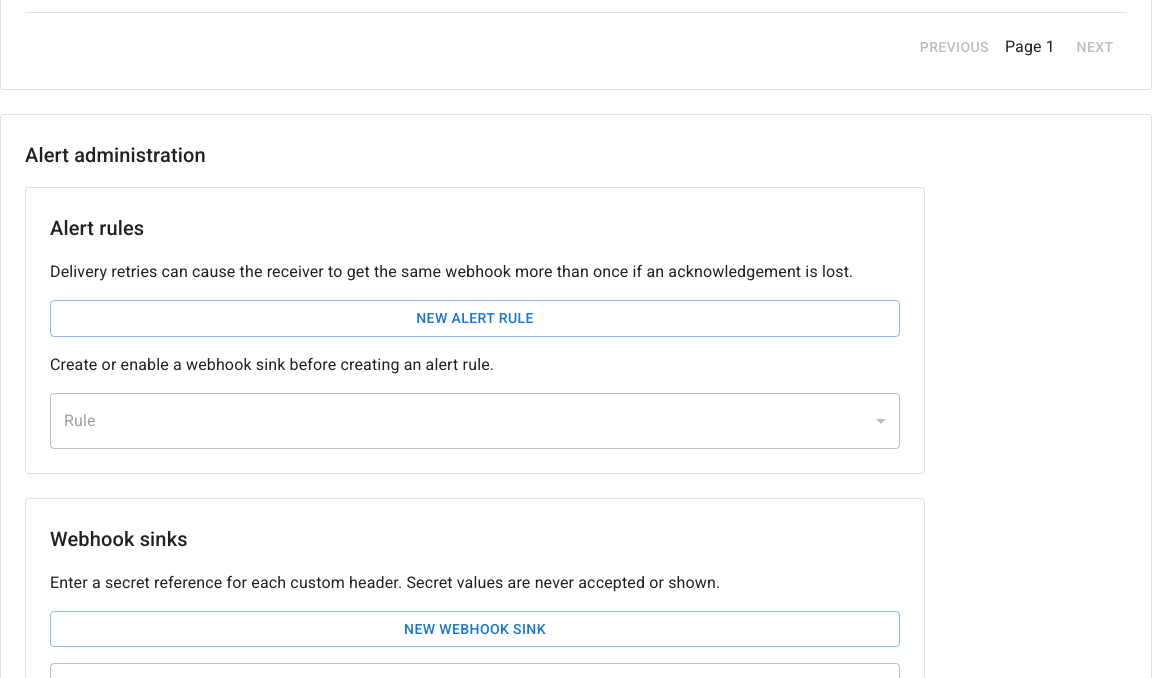
Test: rule creation without an enabled sink gives guidance and keeps the draft
(page scrolled)
Click the button "New alert rule": (475, 318) [50, 300, 900, 336]
(page scrolled)
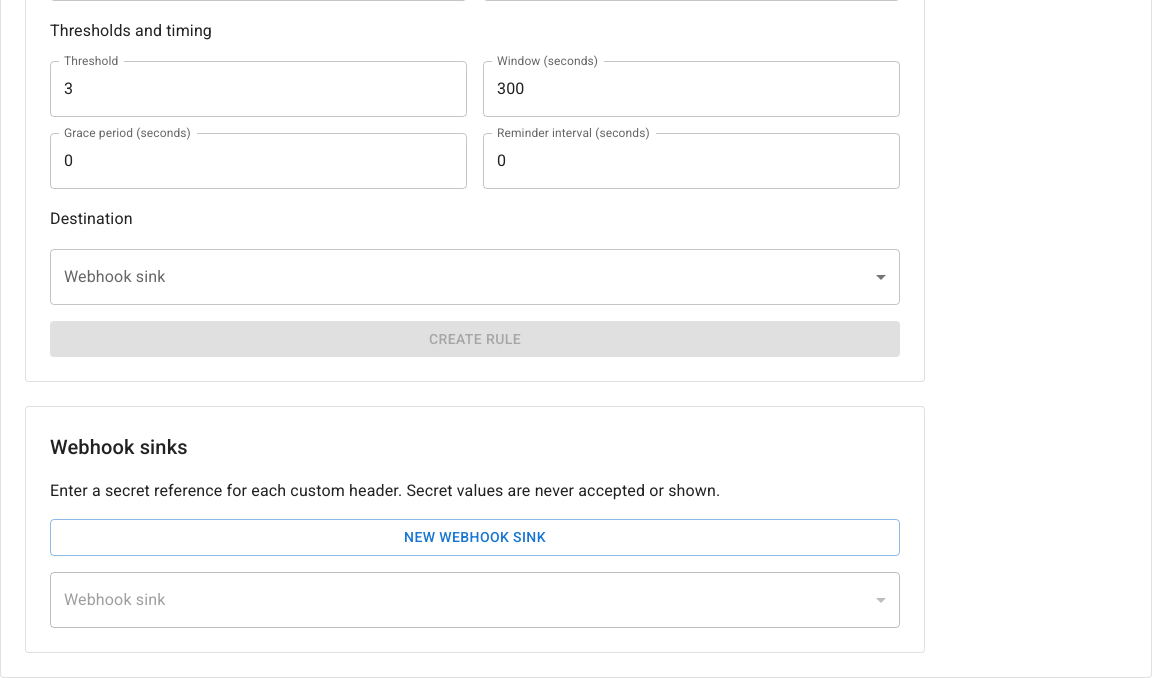
Result: the button "Create rule" is disabled at [50, 320, 900, 357]
